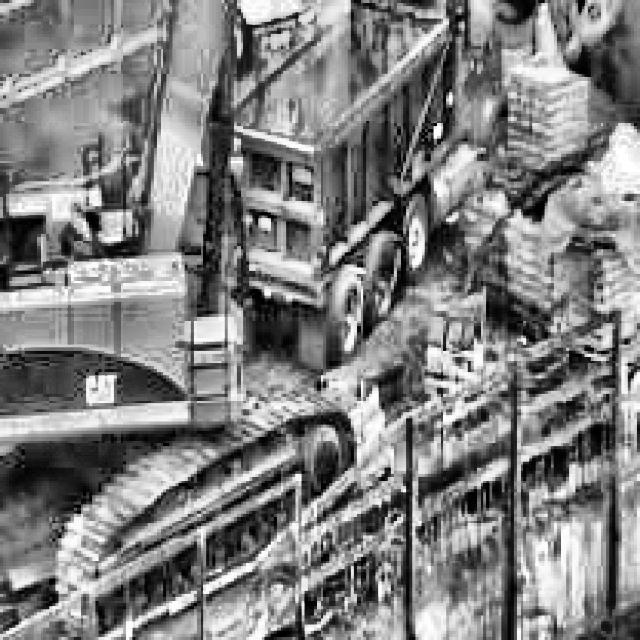dump_truck: (206, 0, 507, 372)
excavator: (0, 0, 640, 640)
